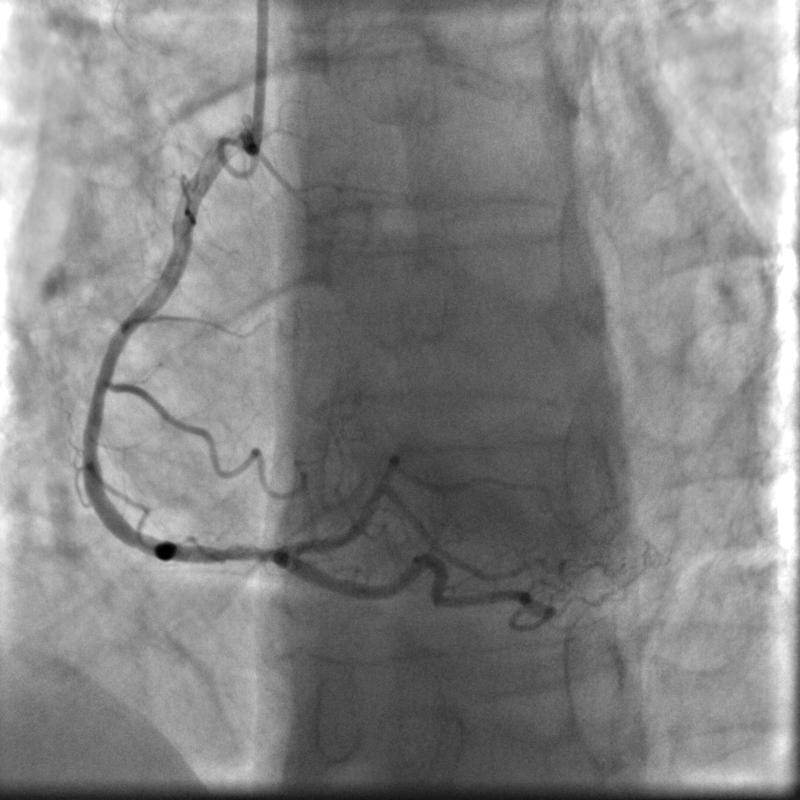Stenosis: (206, 532, 271, 575)
